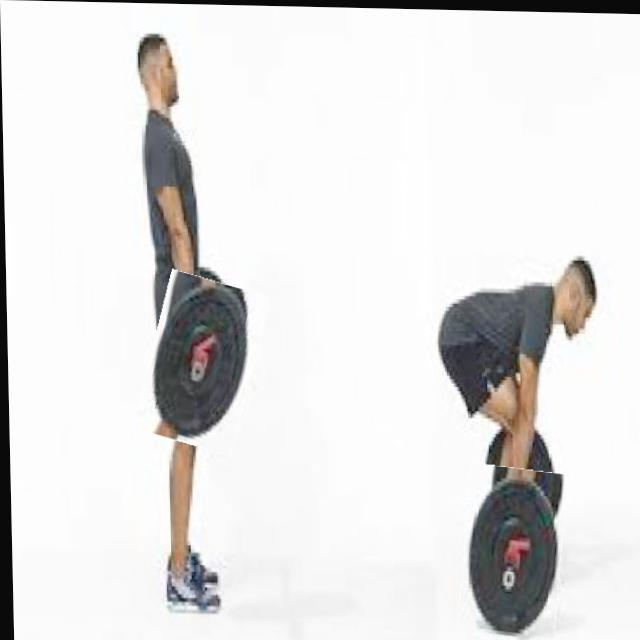barbell: (139, 273, 262, 450), (456, 464, 565, 640)
